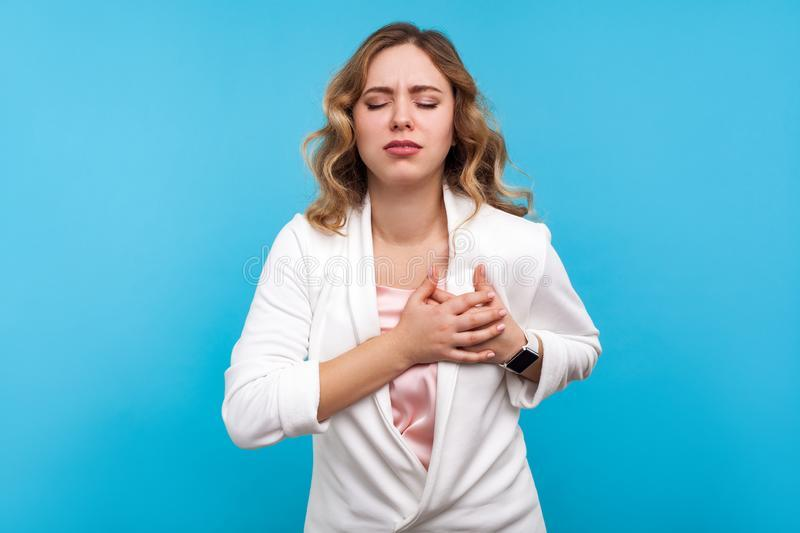pain: (352, 83, 453, 116)
